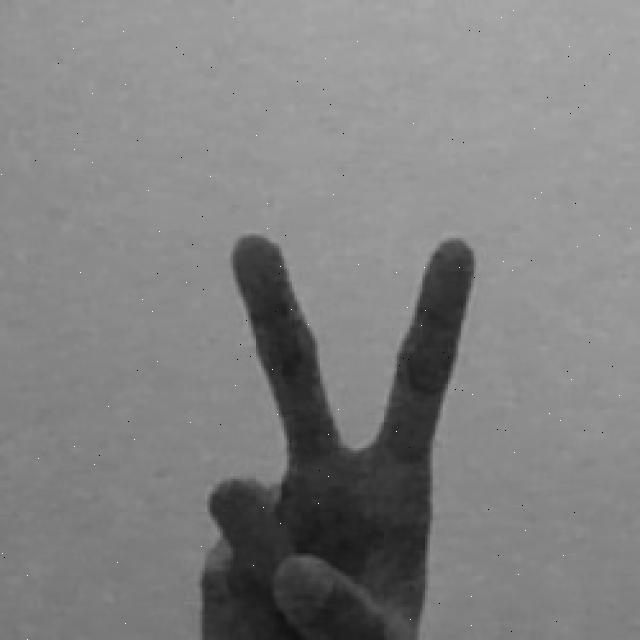V: (189, 225, 483, 640)
